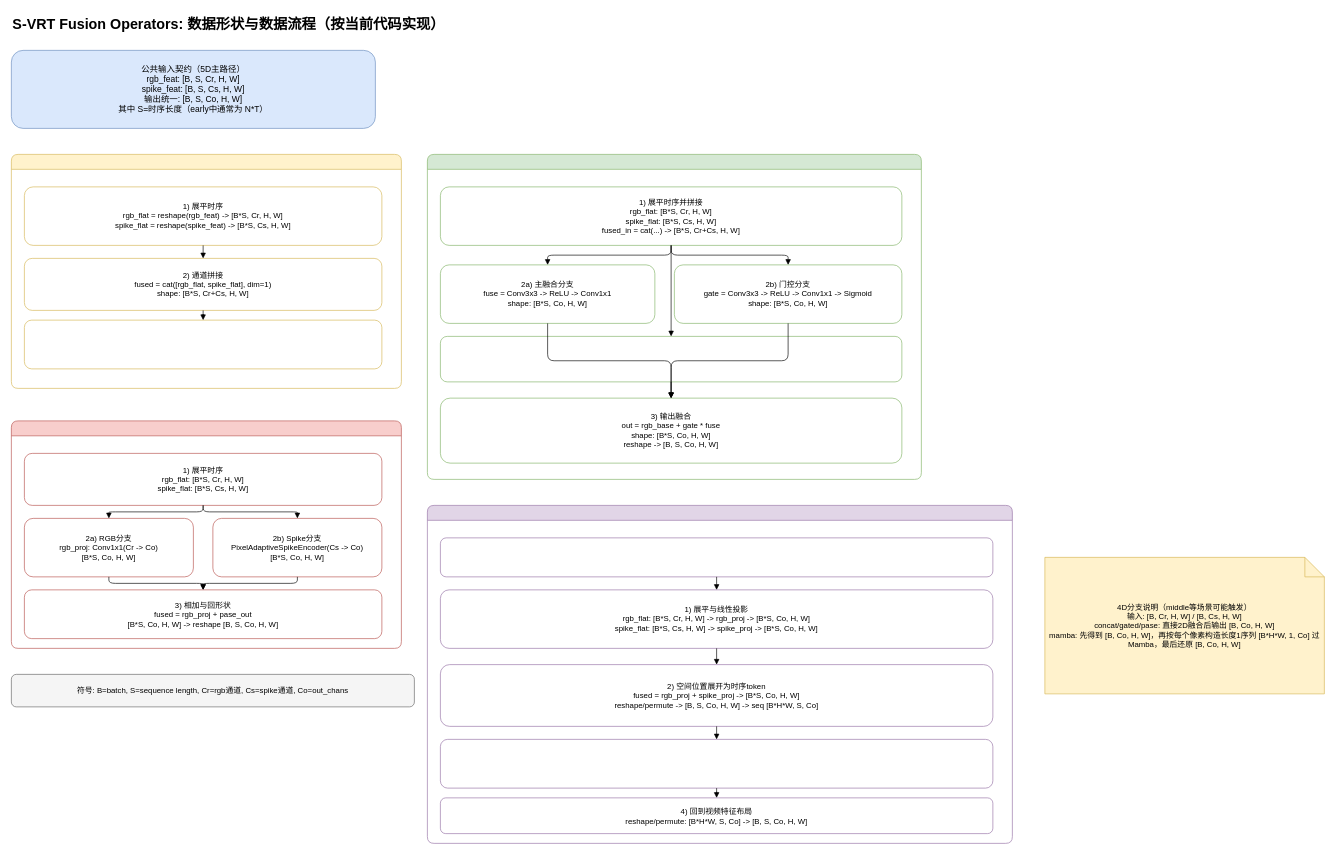
This 1336x855 diagram has some shape labels left out. Each missing label, with the box of its shape:
0) 依赖检查 if mamba_ssm 不可用 -> RuntimeError: (440, 537, 993, 577)
2c) RGB捷径 rgb_base = rgb_proj(rgb_flat) shape: [B*S, Co, H, W]: (440, 336, 902, 382)
3) 1x1投影 out = Conv2d(Cr+Cs -> Co)(fused) shape: [B*S, Co, H, W]: (24, 319, 382, 369)
3) 时序建模 seq_out = Mamba(seq) shape保持 [B*H*W, S, Co]: (440, 739, 993, 788)
ConcatFusionOperator: (11, 154, 401, 388)
GatedFusionOperator: (427, 154, 921, 479)
MambaFusionOperator: (427, 505, 1012, 843)
PaseFusionOperator: (11, 420, 401, 648)
